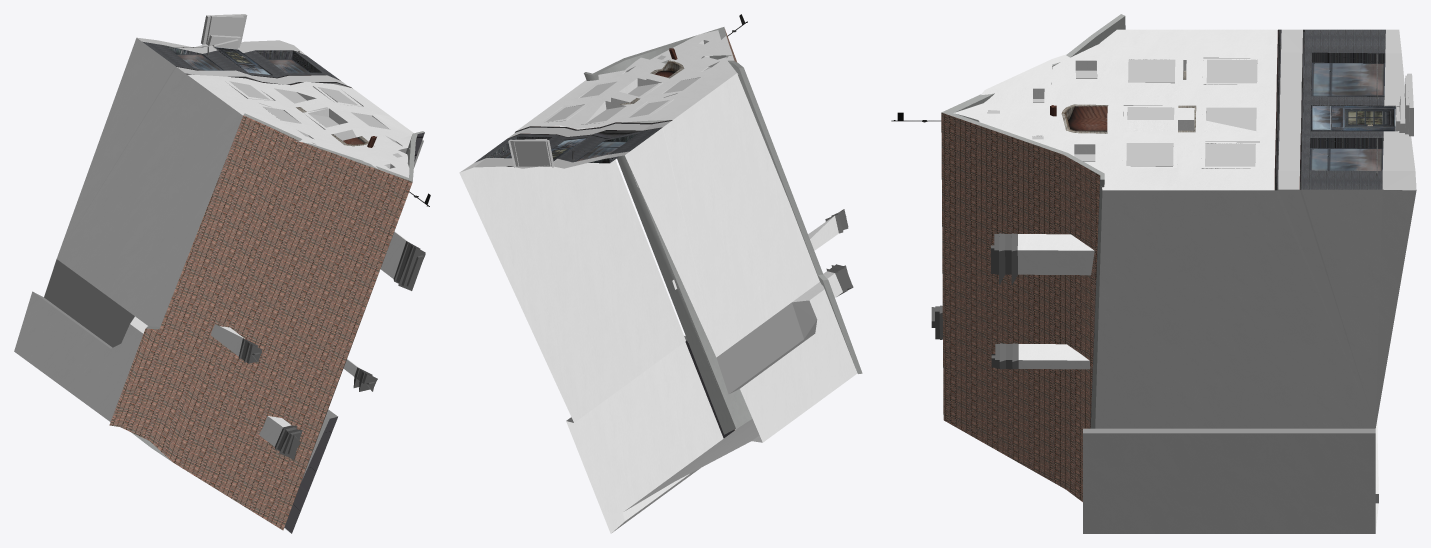
The model's file is Vanaturukael_8-origo.obj.
3 views of the same model, side by side, from view 1: azimuth 30°, elevation 25°; view 2: azimuth 150°, elevation 25°; view 3: azimuth 270°, elevation 25° (orthographic). The views are drawn at different scales.
Visible parts, largest first — view 1: Vanaturukael_8; view 2: Vanaturukael_8; view 3: Vanaturukael_8.
Part boxes in pixels (x1,y1,x2,y2): Vanaturukael_8: [14, 14, 430, 533]; Vanaturukael_8: [459, 14, 862, 533]; Vanaturukael_8: [891, 14, 1416, 533].
Size of the model in its own units: 17.88 by 23.5 by 22.34.
